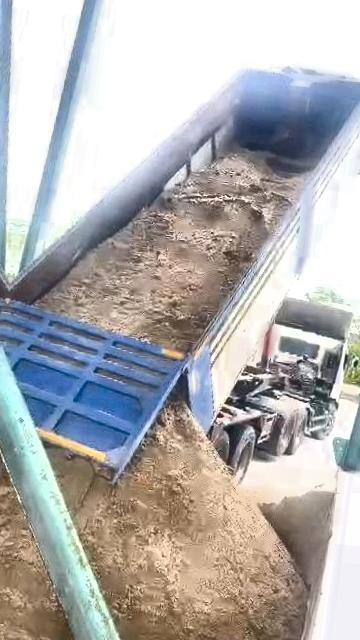sand: (49, 405, 306, 640), (37, 151, 305, 350), (0, 443, 78, 640), (261, 478, 334, 585)
